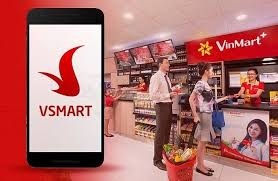vsmart: (24, 5, 107, 170)
